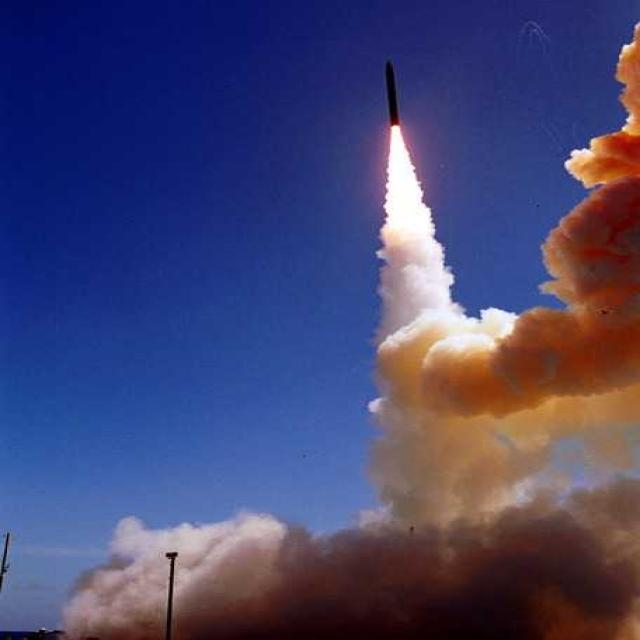missile: (382, 55, 408, 129)
